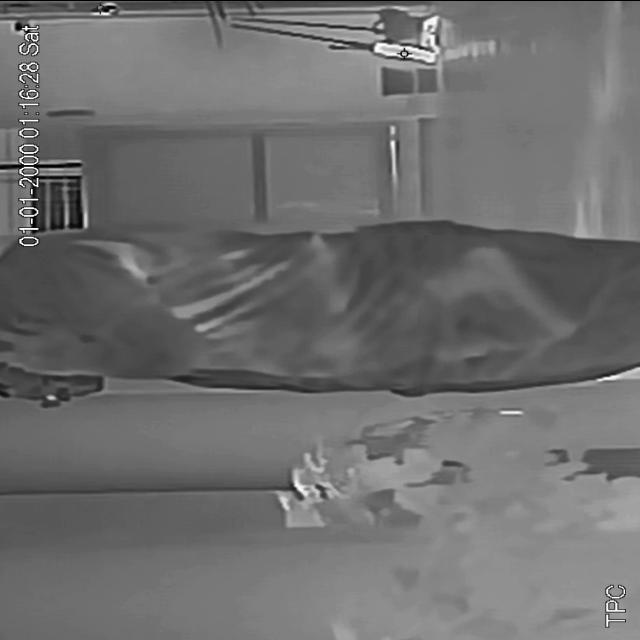Weapon: (418, 236, 592, 342)
